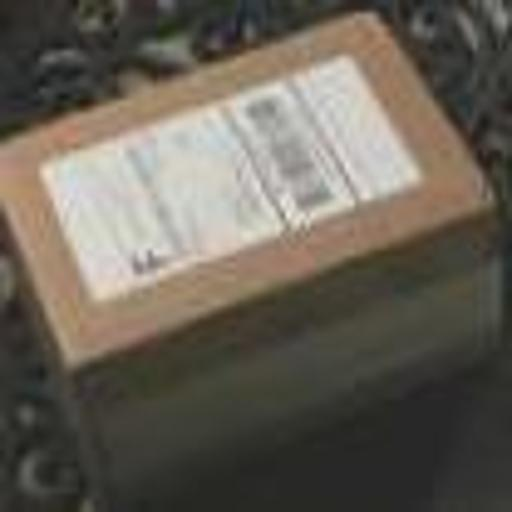Other: (5, 20, 495, 494)
